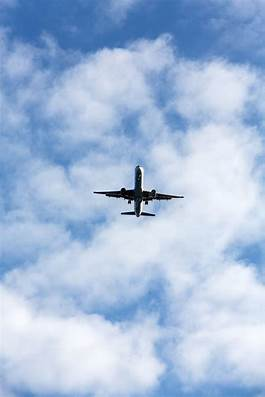aeroplane: (92, 156, 186, 230)
